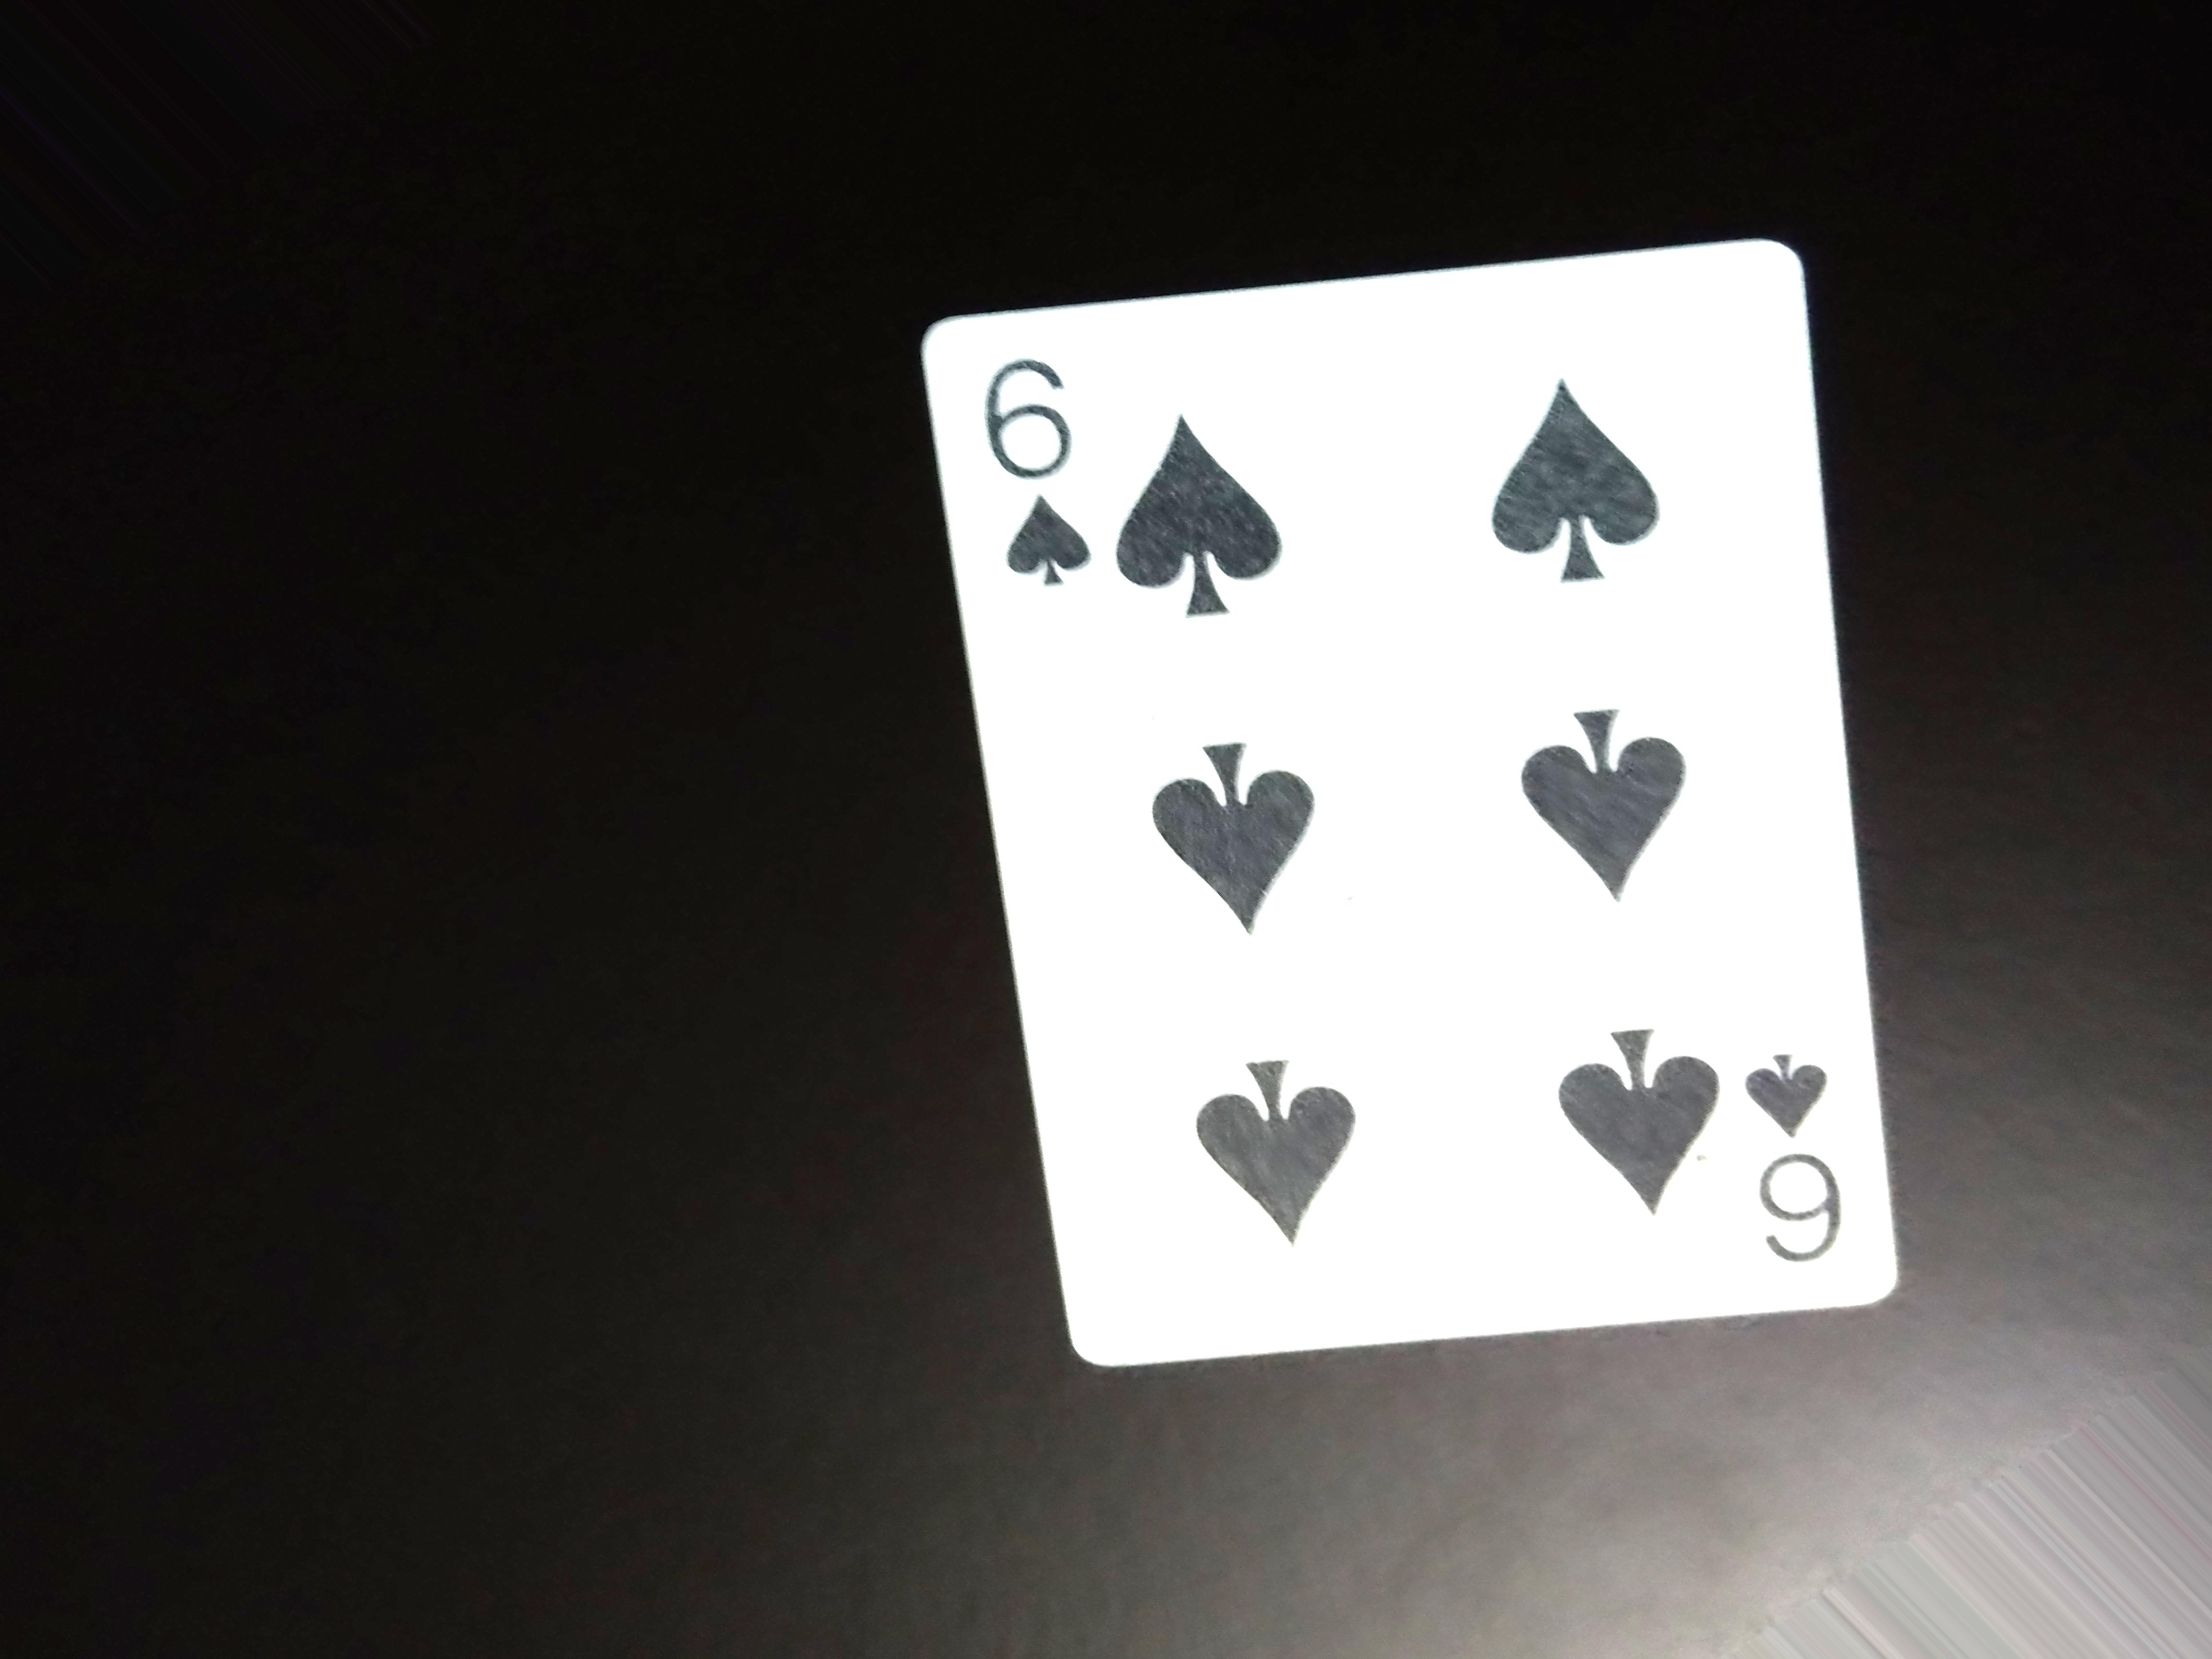6S: (1749, 1040, 1858, 1274)
